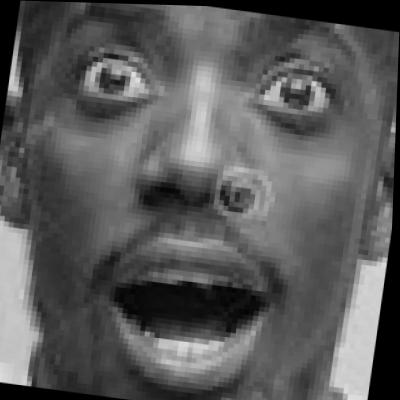surprise: (0, 0, 385, 400)
